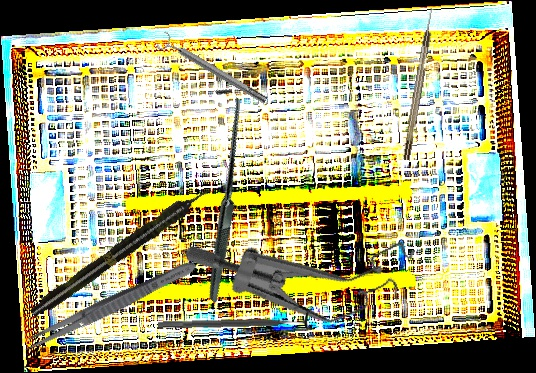Dressing Forceps: (19, 255, 200, 357)
Fixation Ring: (155, 30, 271, 110), (157, 307, 313, 337)
Handpiece: (27, 181, 216, 322)
Hook Surgical: (109, 83, 330, 304), (401, 7, 437, 161)
Speculum: (182, 168, 431, 370)
